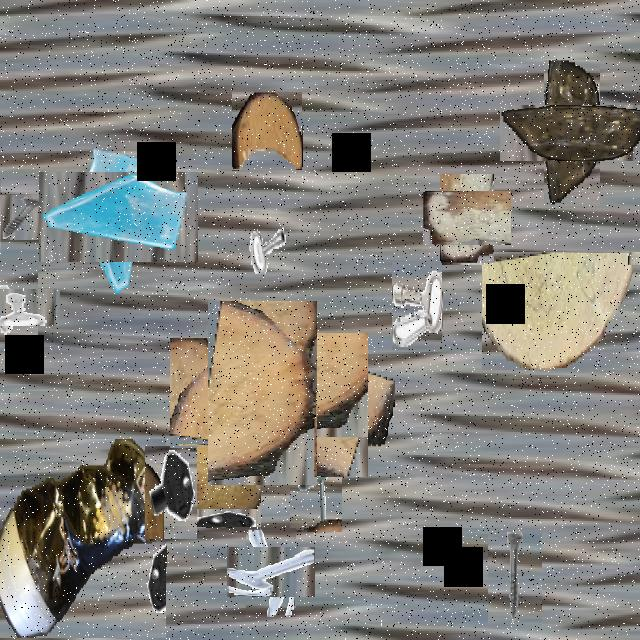glass: (56, 154, 180, 280)
metal: (488, 530, 542, 626), (236, 176, 290, 272), (290, 439, 342, 532), (145, 446, 197, 539), (236, 538, 306, 607), (392, 262, 442, 350), (0, 185, 56, 249), (0, 277, 49, 337)
plastic: (0, 439, 166, 638), (522, 83, 622, 184)
wood: (188, 319, 336, 466), (482, 252, 640, 370), (263, 346, 381, 465), (178, 444, 262, 527), (232, 92, 302, 170), (431, 183, 503, 254)
